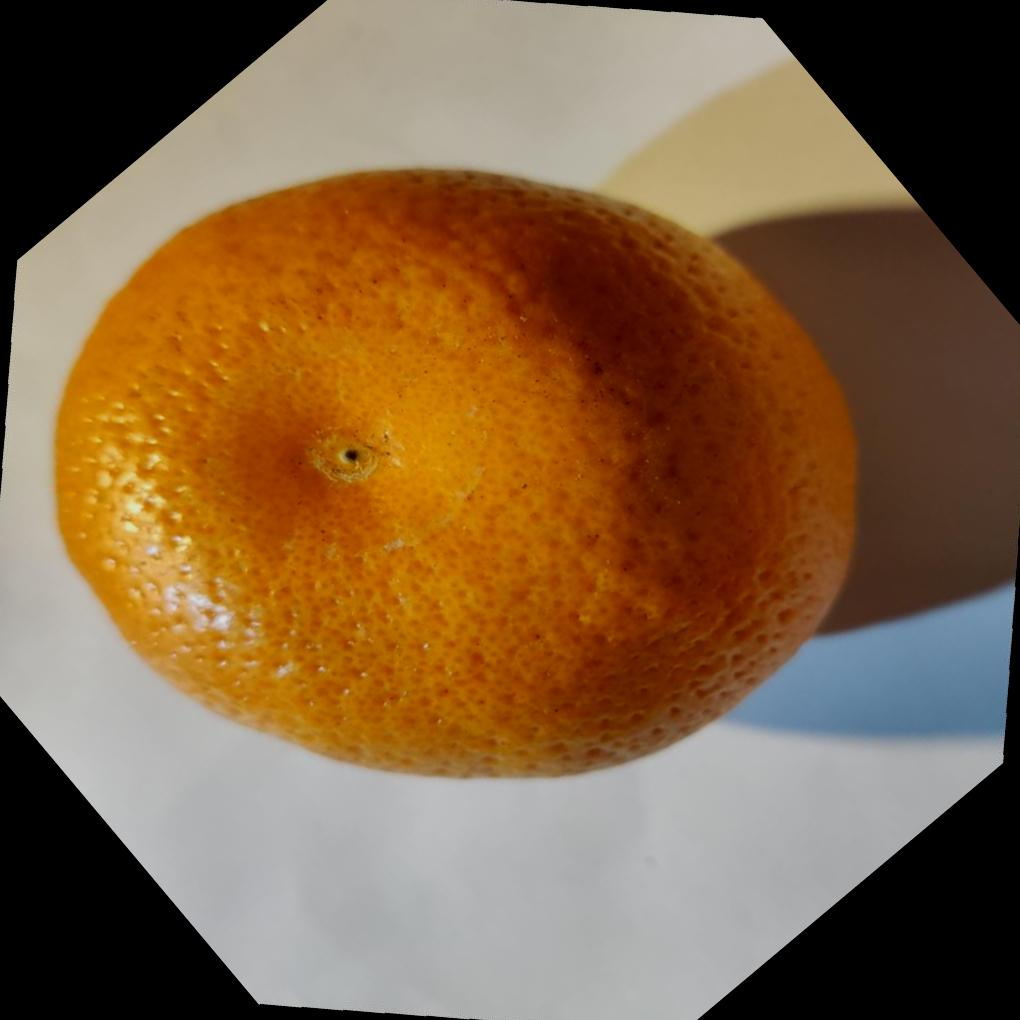FreshGuava: (51, 163, 865, 780)
